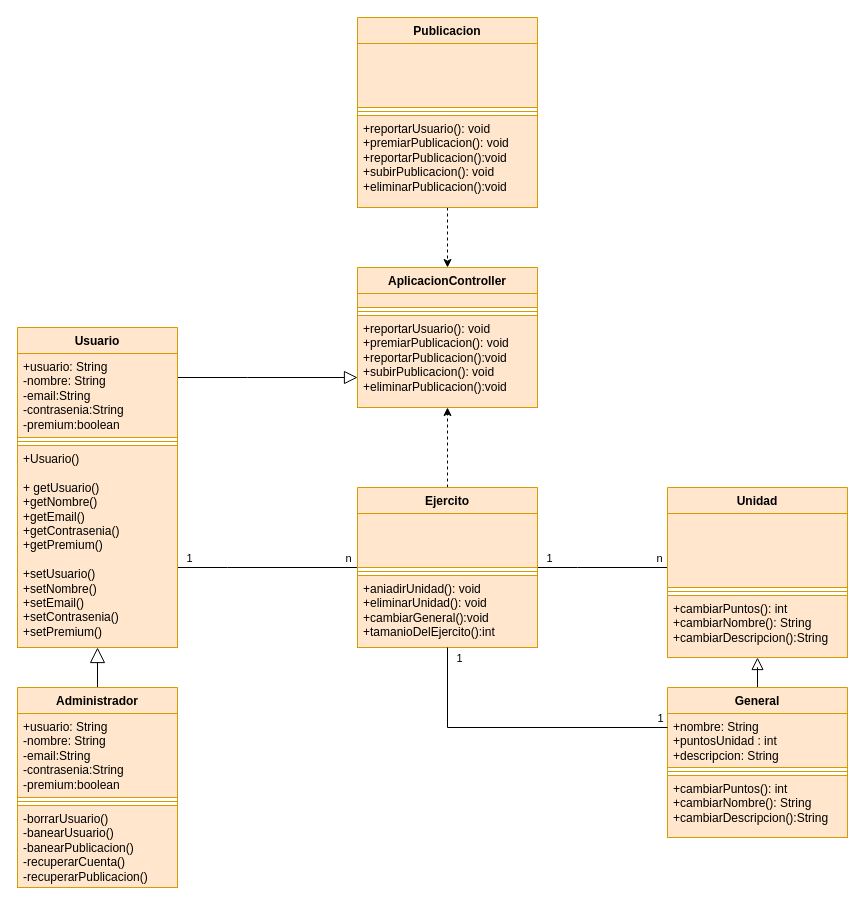
Image size: 865x908. Some labels were removed from this diagram. Each missing label, with the centre of its shape:
"+general: General +ejercito: ArrayList<Unidad> +faccion: String" belongs at [447,540].
"+nombre: String +tamanioDeUnidad: int +puntosUnidad : int +descripcion: String" belongs at [757,550].
"+texto : String +ejercito:Ejercito +imagen:String" belongs at [447,75].
